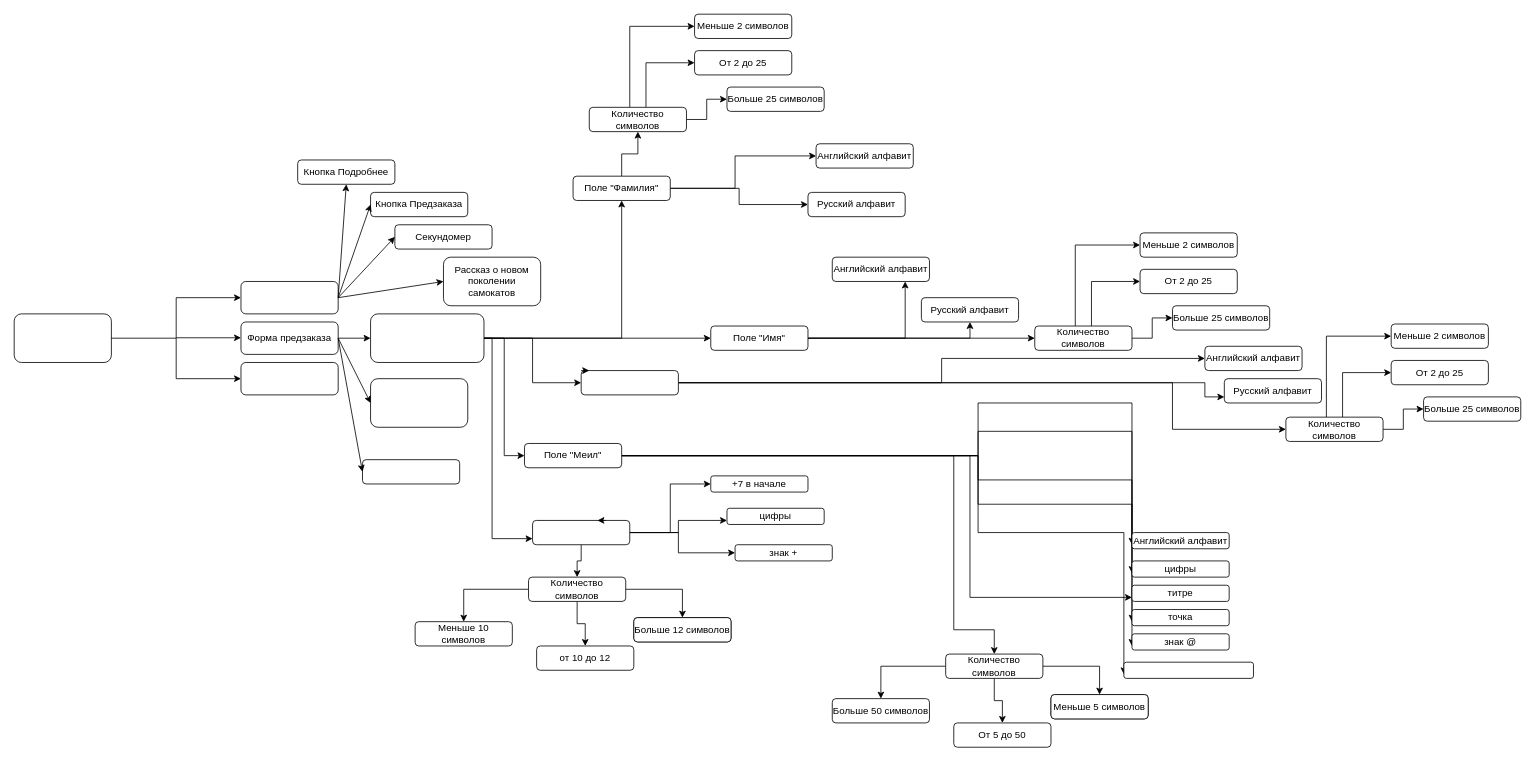
Some shapes in this 1535 by 761 pixel diagram are drawn without their labels. Here are the shapes that lost their labels. From the top down, the box of each, then its label:
(240, 281, 338, 314): Верхний блок
(13, 313, 111, 362): Промо страница Яндекс Самоката
(370, 313, 484, 362): Поля для предзаказа(ФИО, тел., мейл)
(240, 362, 338, 395): Ссылки
(580, 370, 678, 395): Поле "Отчество"
(370, 378, 468, 427): Количество подписавшихся
(362, 459, 460, 484): Кнопка заказать
(532, 520, 630, 545): Поле "Номер телефона"
(1123, 661, 1253, 678): нижнее подчеркивание
